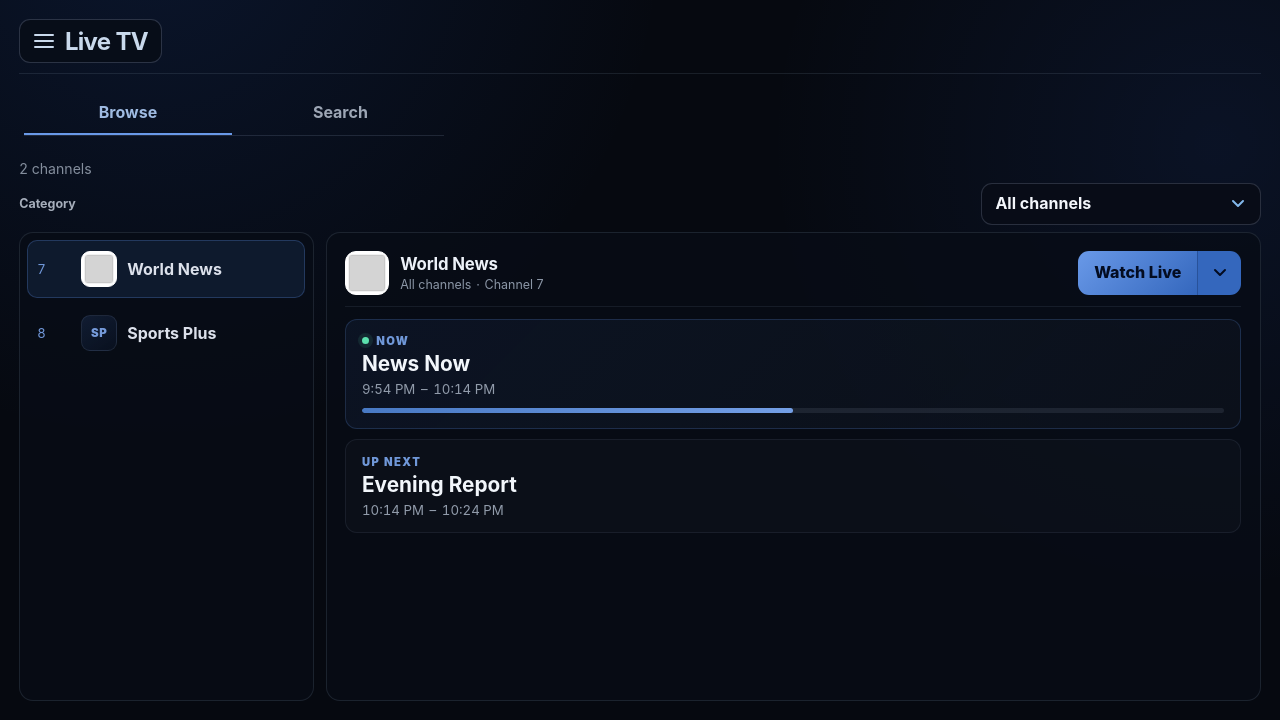
Test: ViewerShell header menu › keeps Browse and Search available after choosing a section
This screenshot has width=1280, height=720.
Click the button with aria-label "Open menu, current section" at coordinates (91, 41), box [19,19,162,63]
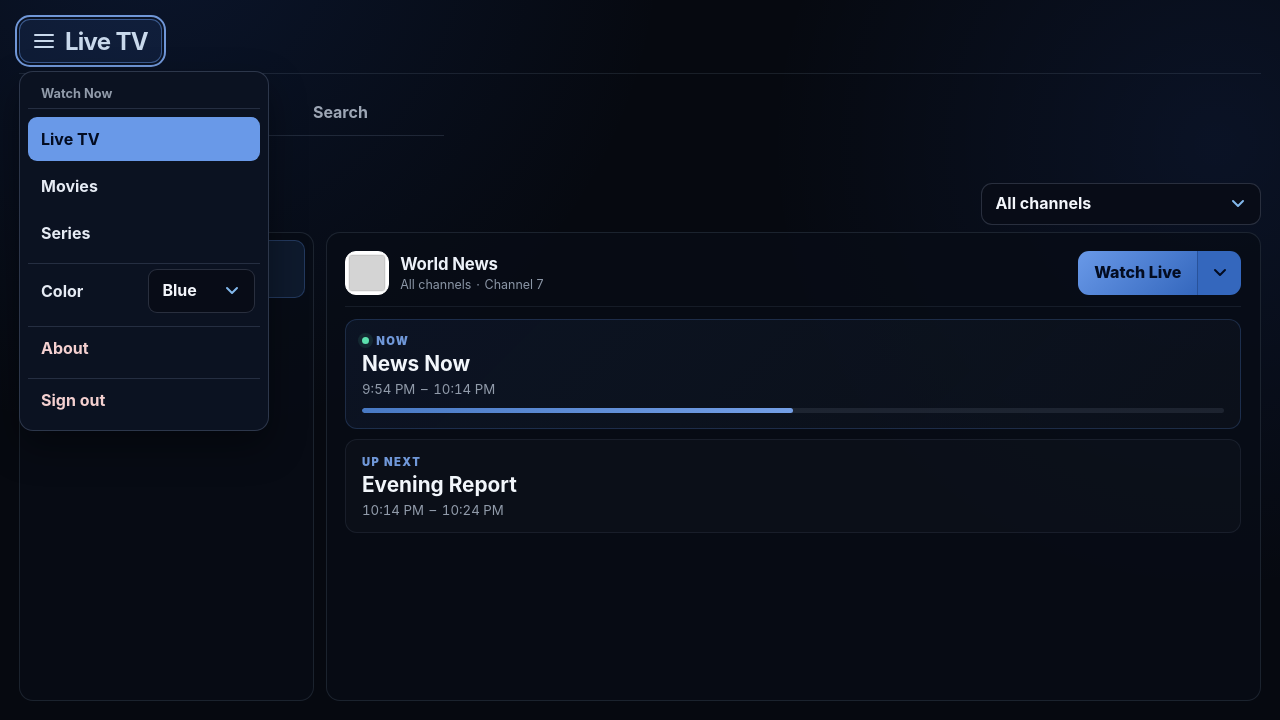
Click the button "Movies" at coordinates (144, 186), box [28,164,260,208]
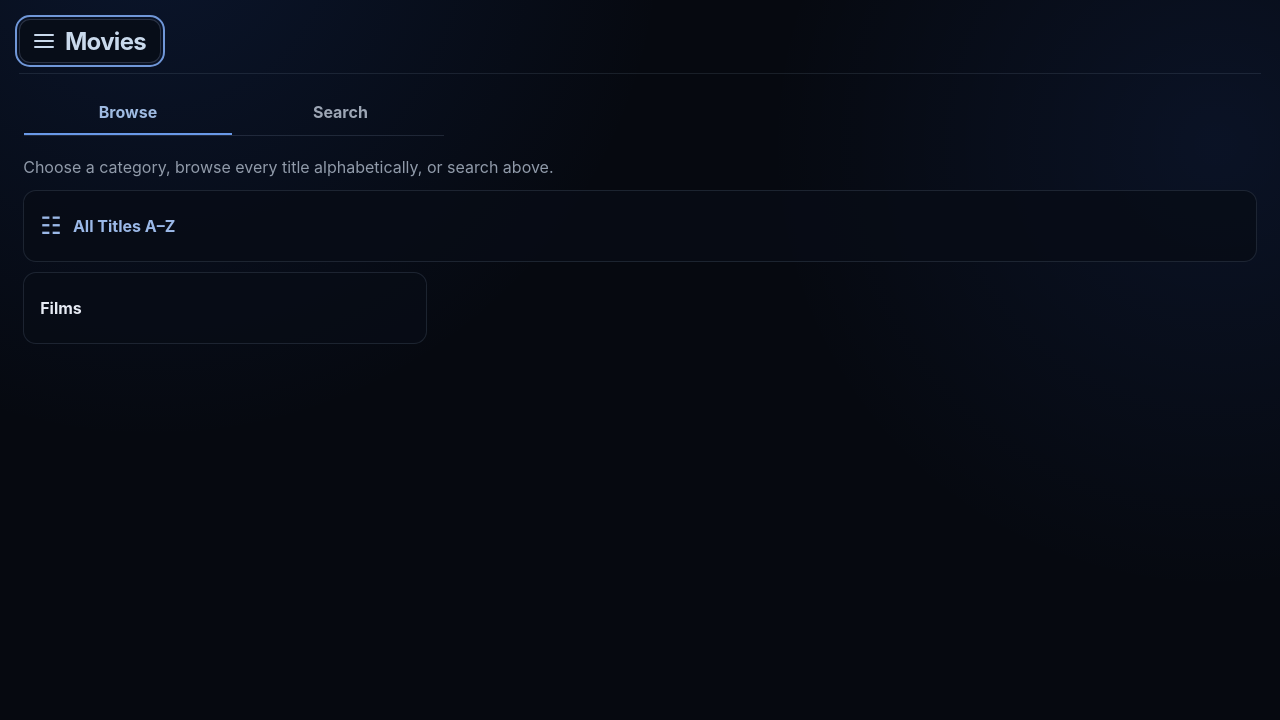
Check: the navigation bar named "Browse or search" is shown, box [24,91,444,136]
Check: the button with aria-label "Open menu, current section Movies" reads "Movies"
Click the button with aria-label "Open menu, current section" at coordinates (90, 41), box [19,19,160,63]
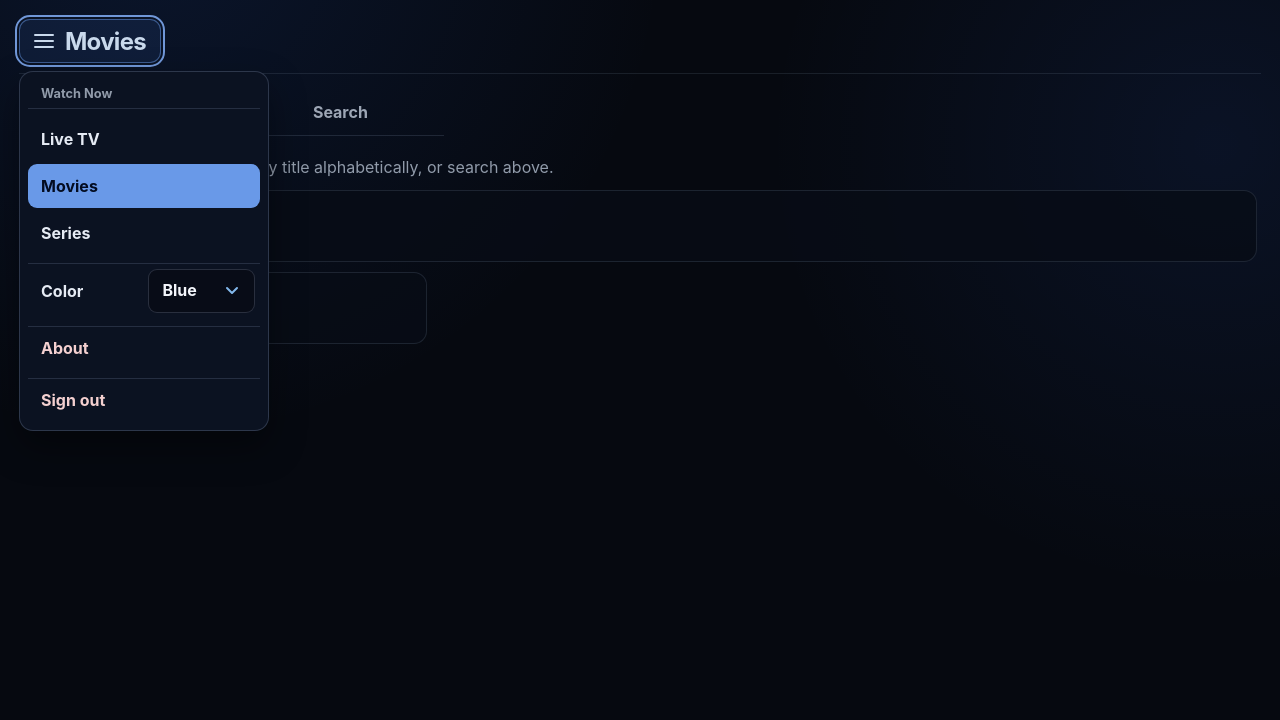
Click the button "Series" at coordinates (144, 233), box [28,211,260,255]
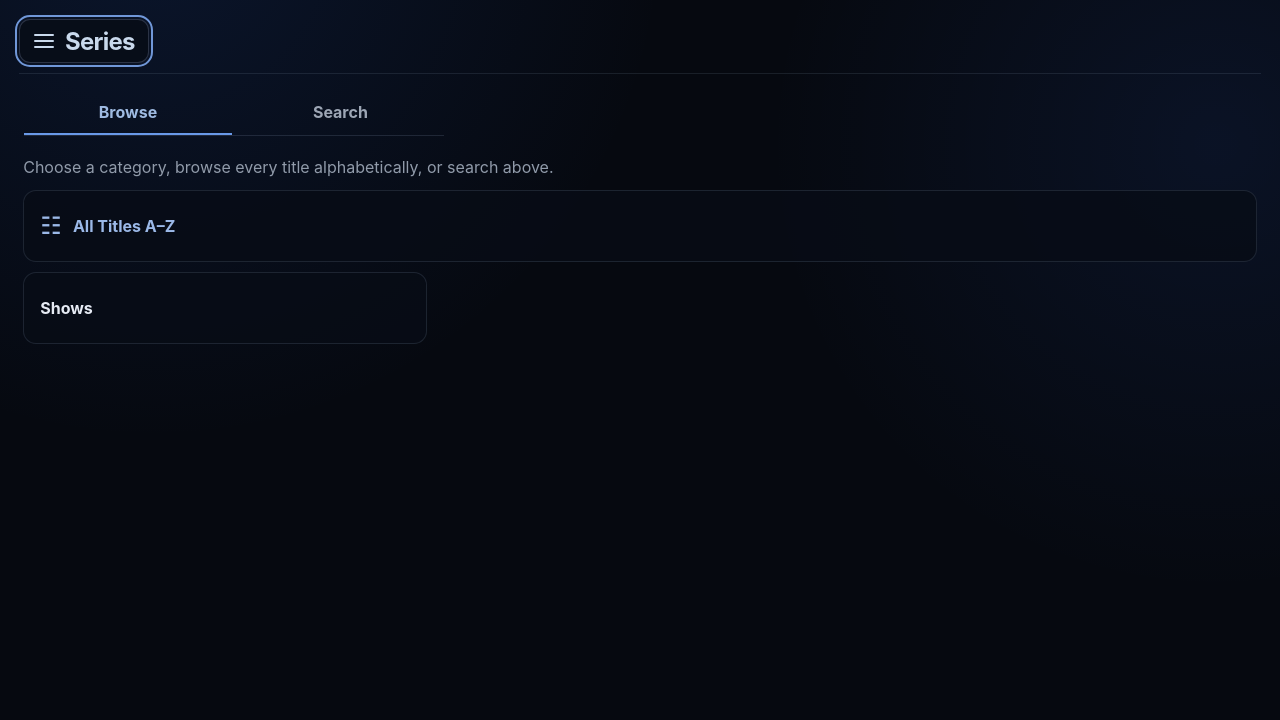
Check: the navigation bar named "Browse or search" is shown, box [24,91,444,136]
Check: the button with aria-label "Open menu, current section Series" reads "Series", box [19,19,149,63]
